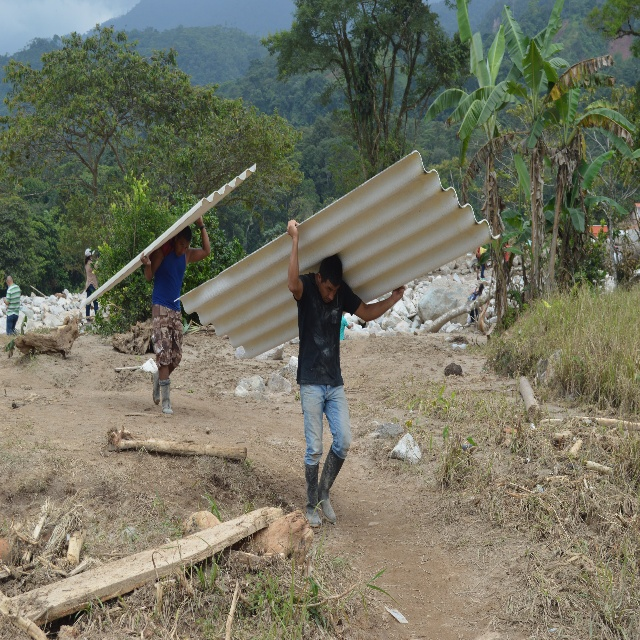Sin_guantes: (286, 219, 300, 239), (392, 285, 406, 303), (140, 250, 151, 266), (196, 214, 203, 225)
